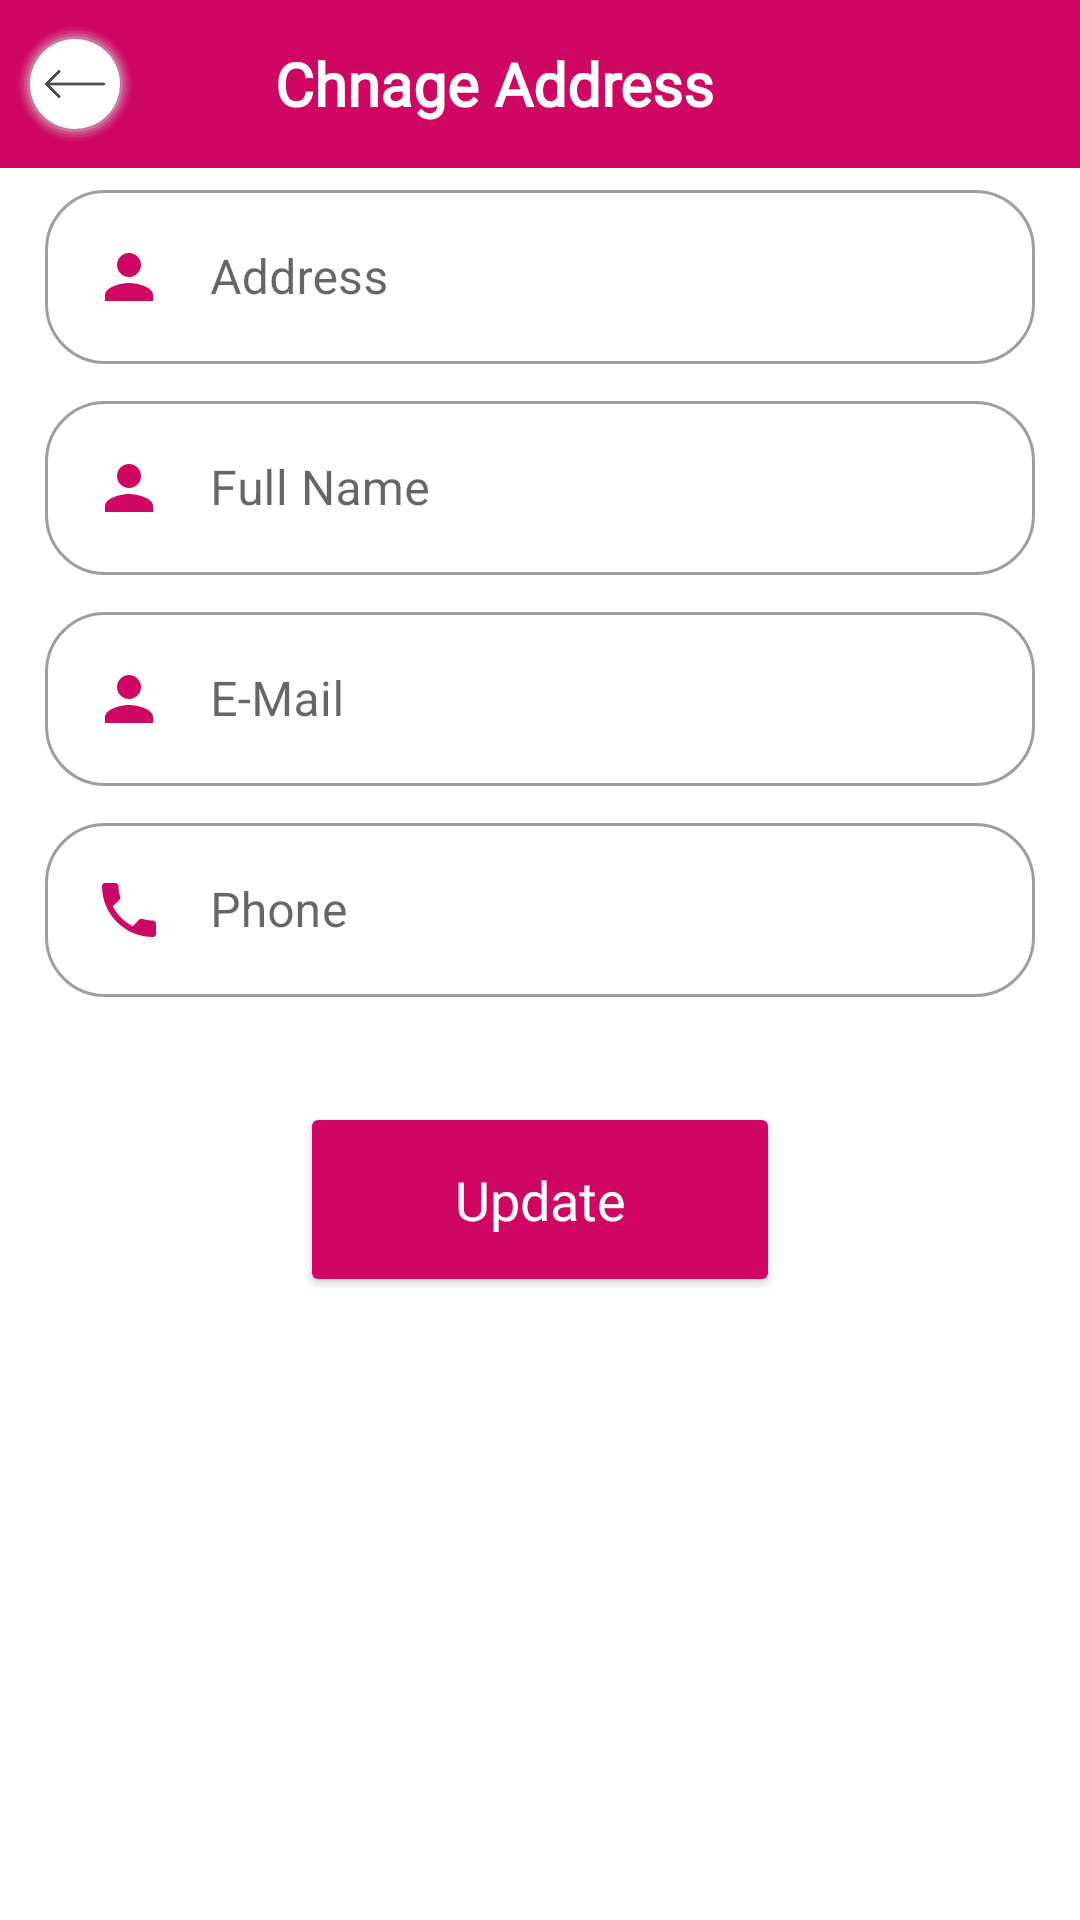

Where to tap for icons on this 1080 x 1920 app screen, as [x,y]:
back arow: [75,84]
